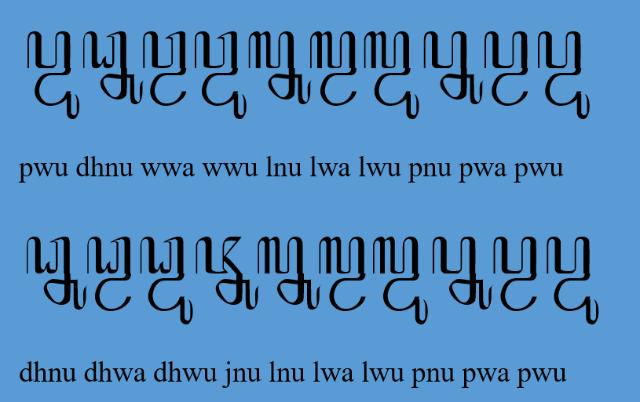dhnu: (83, 30, 145, 106), (26, 236, 88, 312)
dhw: (86, 236, 132, 312)
dhwu: (139, 236, 193, 326)
jnu: (195, 236, 259, 310)
lnu: (248, 30, 312, 106), (257, 237, 321, 311)
lw: (318, 236, 368, 314), (310, 30, 358, 107)
lwu: (363, 30, 419, 120), (372, 236, 428, 326)
pnu: (432, 235, 492, 311), (422, 31, 483, 105)
pw: (484, 31, 530, 107), (493, 236, 537, 312)
pwu: (545, 236, 599, 326), (27, 31, 81, 120), (538, 30, 590, 120)
ww: (142, 30, 188, 107)
wwu: (193, 30, 247, 119)
